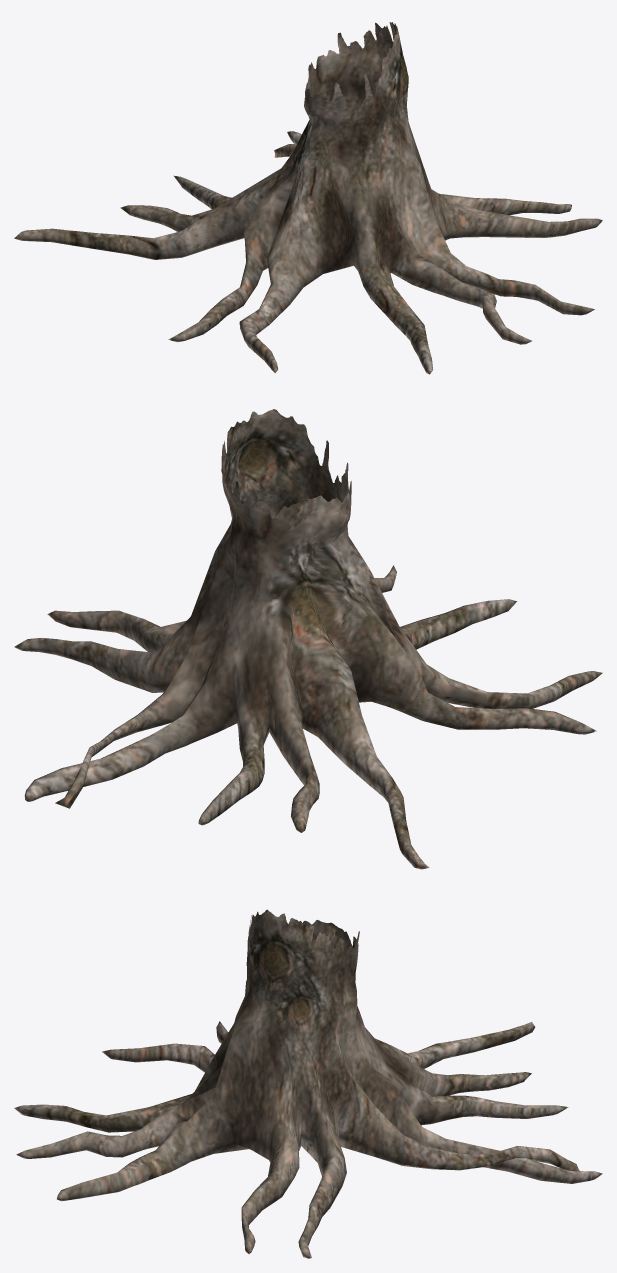
File: mad_drive_escombros_tronco.dae
3 views of the same model, one above another, from view 1: azimuth 30°, elevation 25°; view 2: azimuth 150°, elevation 25°; view 3: azimuth 270°, elevation 25° (orthographic). The views are drawn at different scales.
Parts seen in each view (by area): view 1: tronco4_mesh_0; view 2: tronco4_mesh_0; view 3: tronco4_mesh_0.
Part boxes in pixels (x1,y1,x2,y2): tronco4_mesh_0: [14, 22, 602, 374]; tronco4_mesh_0: [14, 409, 602, 869]; tronco4_mesh_0: [14, 909, 602, 1258].
Size of the model in its own units: 25.38 by 13.01 by 26.94.
1 material, 1 textured.
